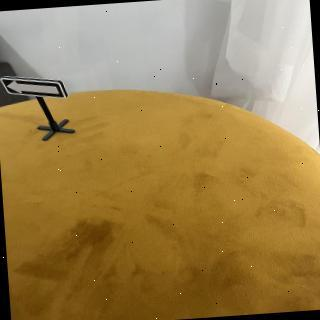sign_oneway_left: (1, 71, 70, 104)
